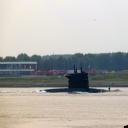submarine: (17, 64, 125, 93)
